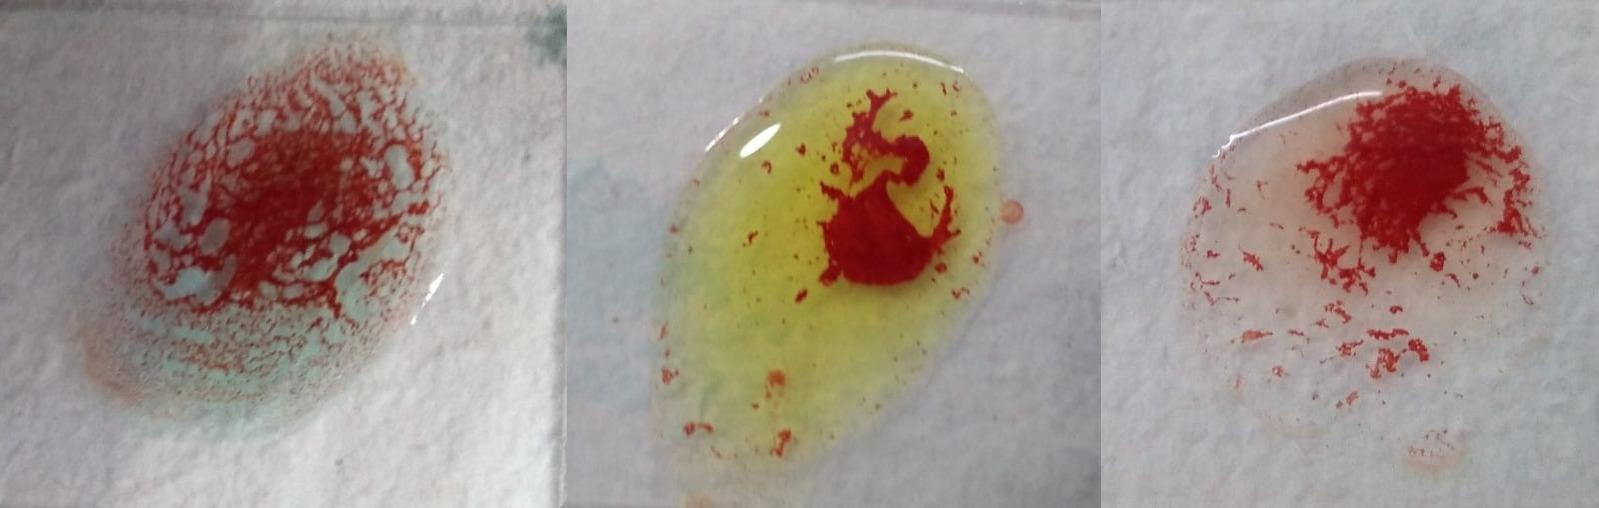A: (78, 47, 449, 399)
B: (677, 44, 1007, 451)
D: (1197, 44, 1546, 435)
